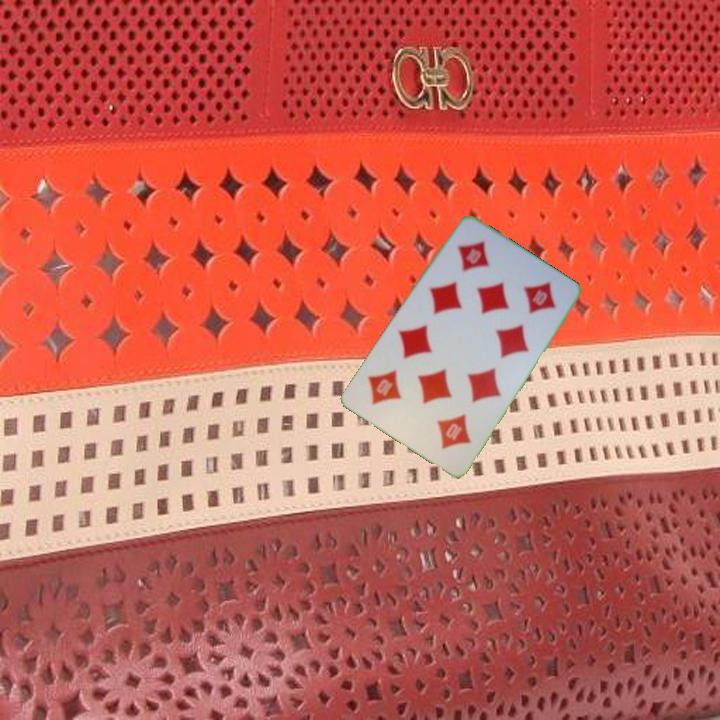d_10.png: (435, 223, 521, 306), (402, 385, 488, 468)
